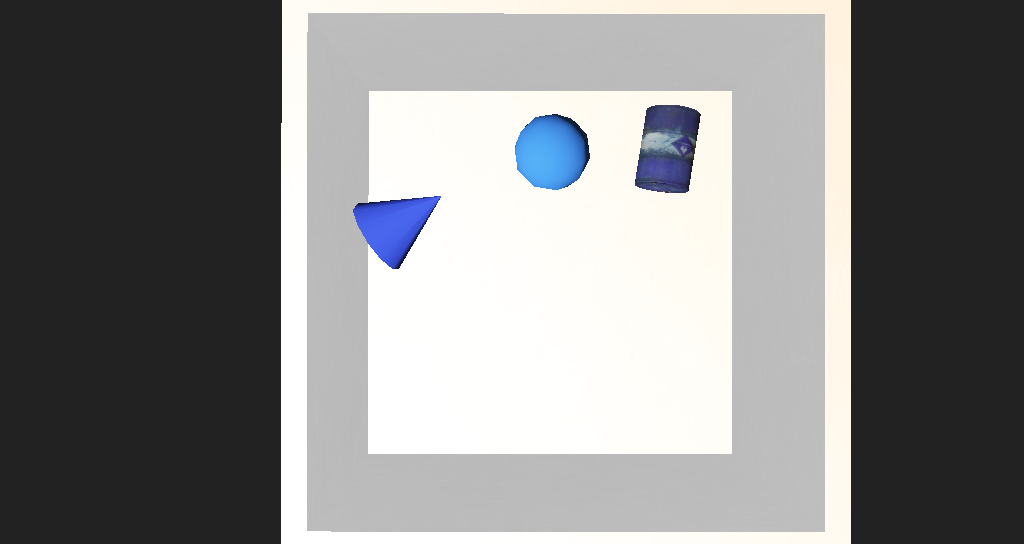cone: (576, 167, 637, 224)
cylinder: (337, 198, 431, 270)
sphere: (472, 179, 539, 222)
